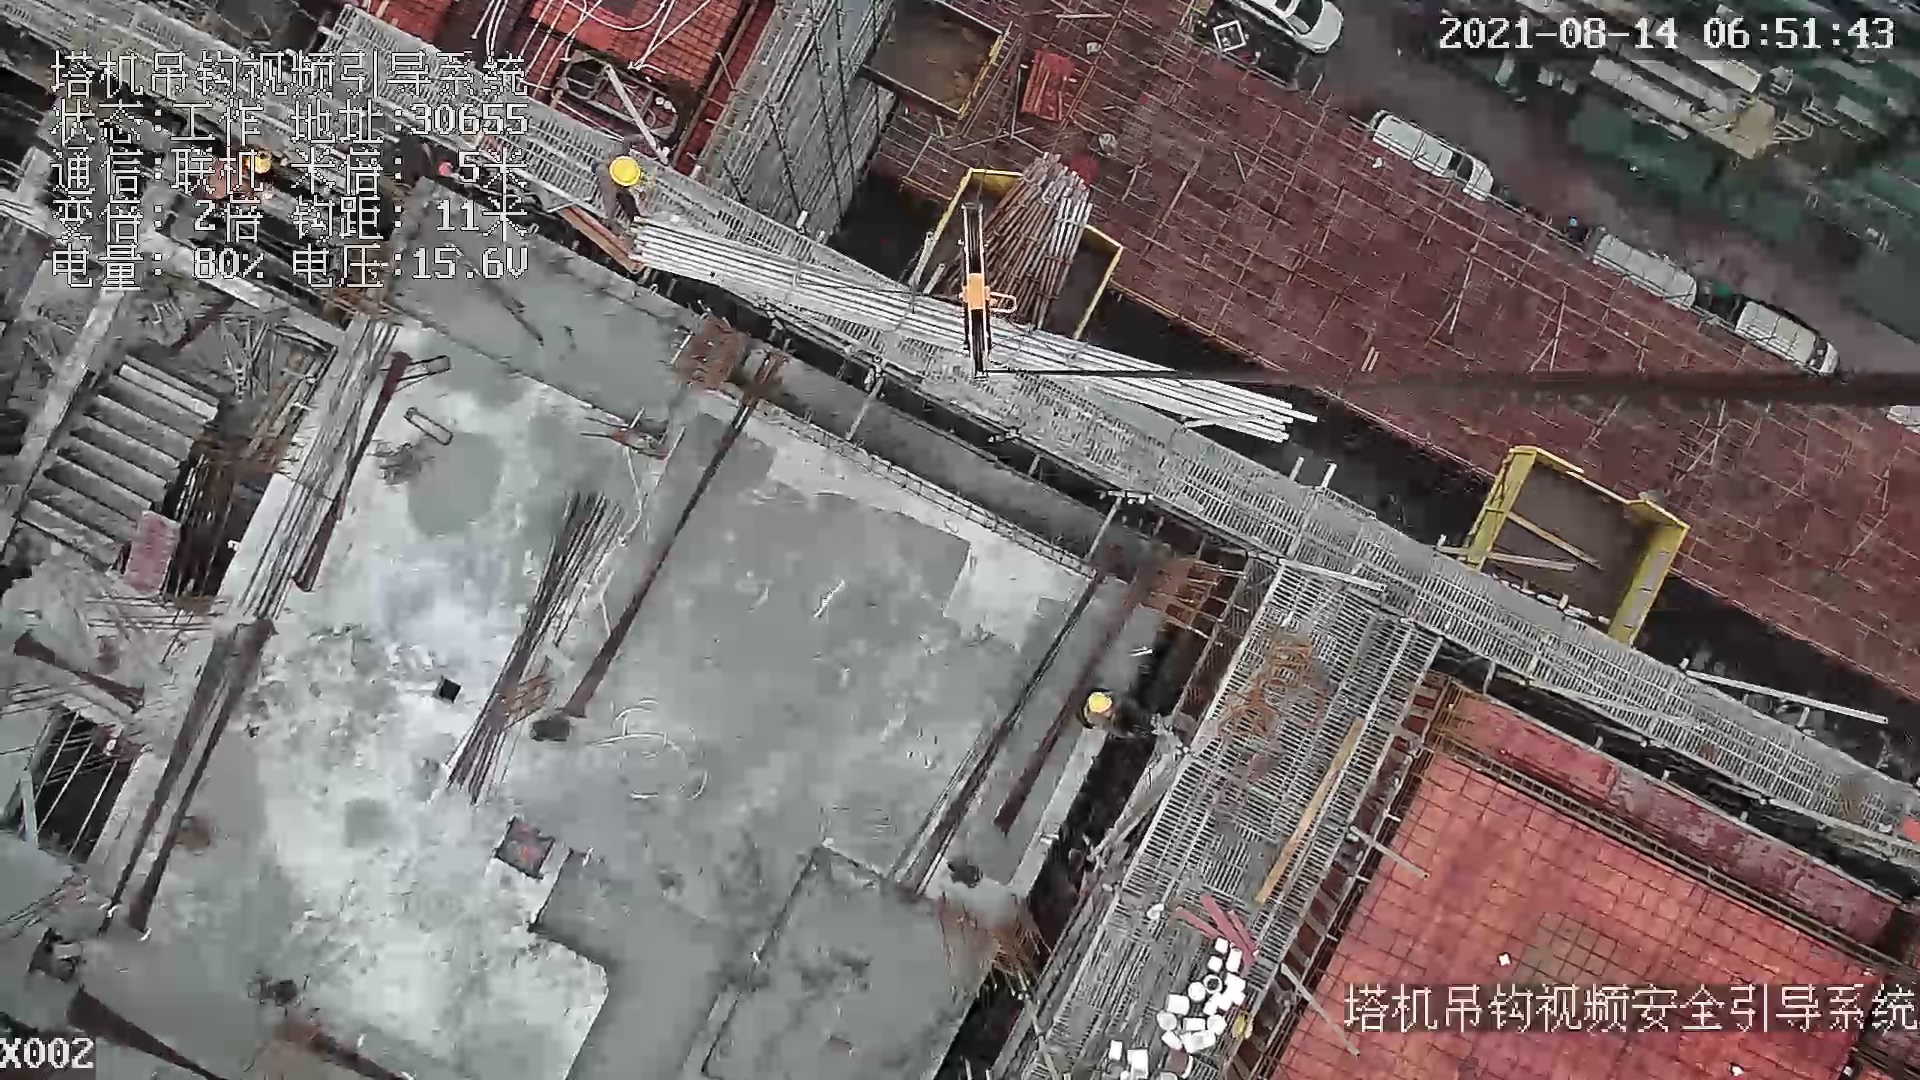helmet: (608, 154, 641, 187), (1086, 692, 1113, 713)
hook: (956, 197, 1019, 378)
person: (1059, 671, 1164, 741), (579, 139, 651, 240)
rebar: (627, 220, 1316, 448), (444, 485, 627, 803)
scaffold: (985, 149, 1093, 333)
